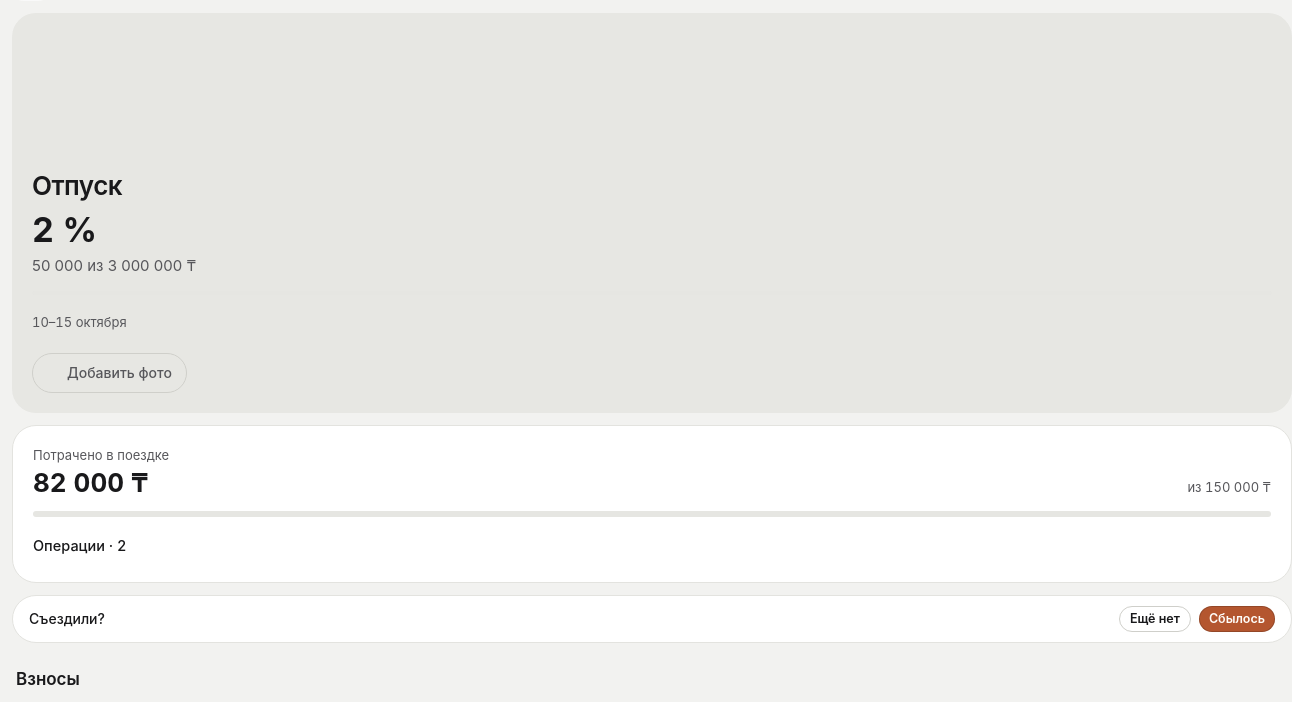
PN-31: экран цели-поездки › после поездки — «Съездили?» вместо срока и «Пополнить»; «Ещё нет» возвращает срок
(page scrolled)
Click the button "Ещё нет": (1155, 619) [1119,606,1191,632]
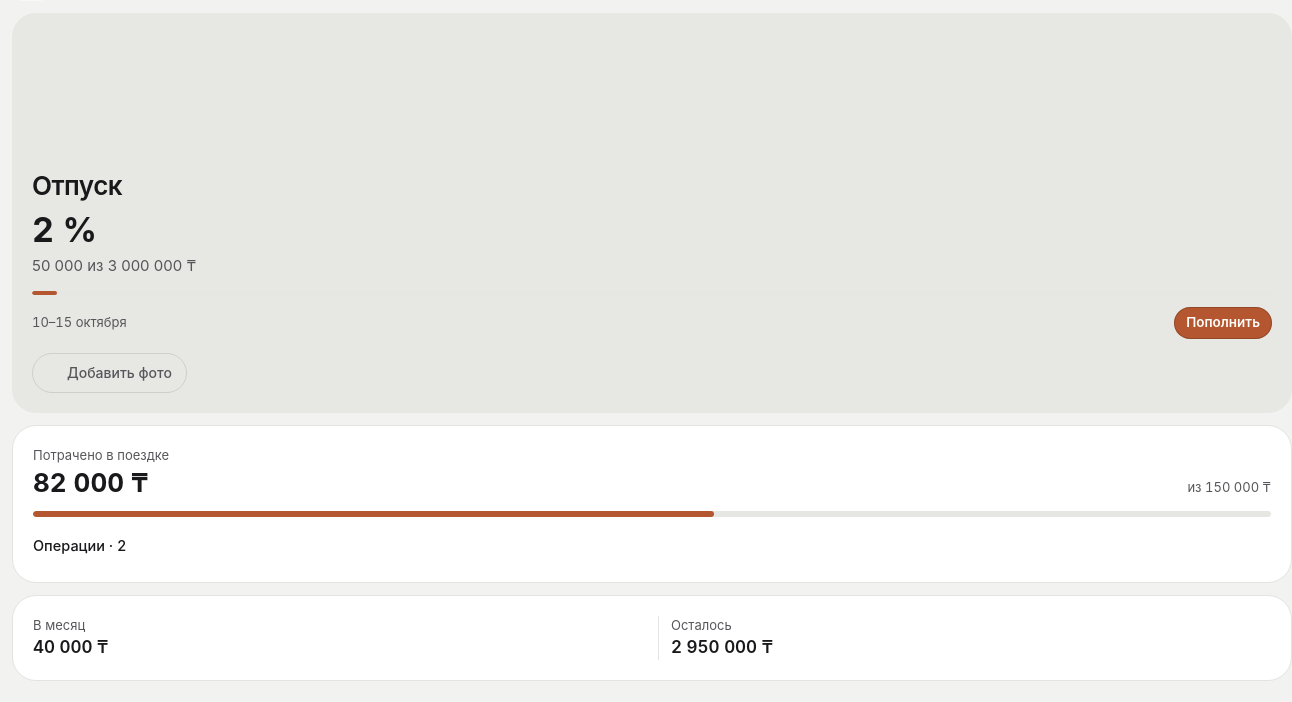
Result: the element showing "В месяц 40 000 ₸ Осталось 2 950 000 ₸" is shown at [12,595,1291,681]
